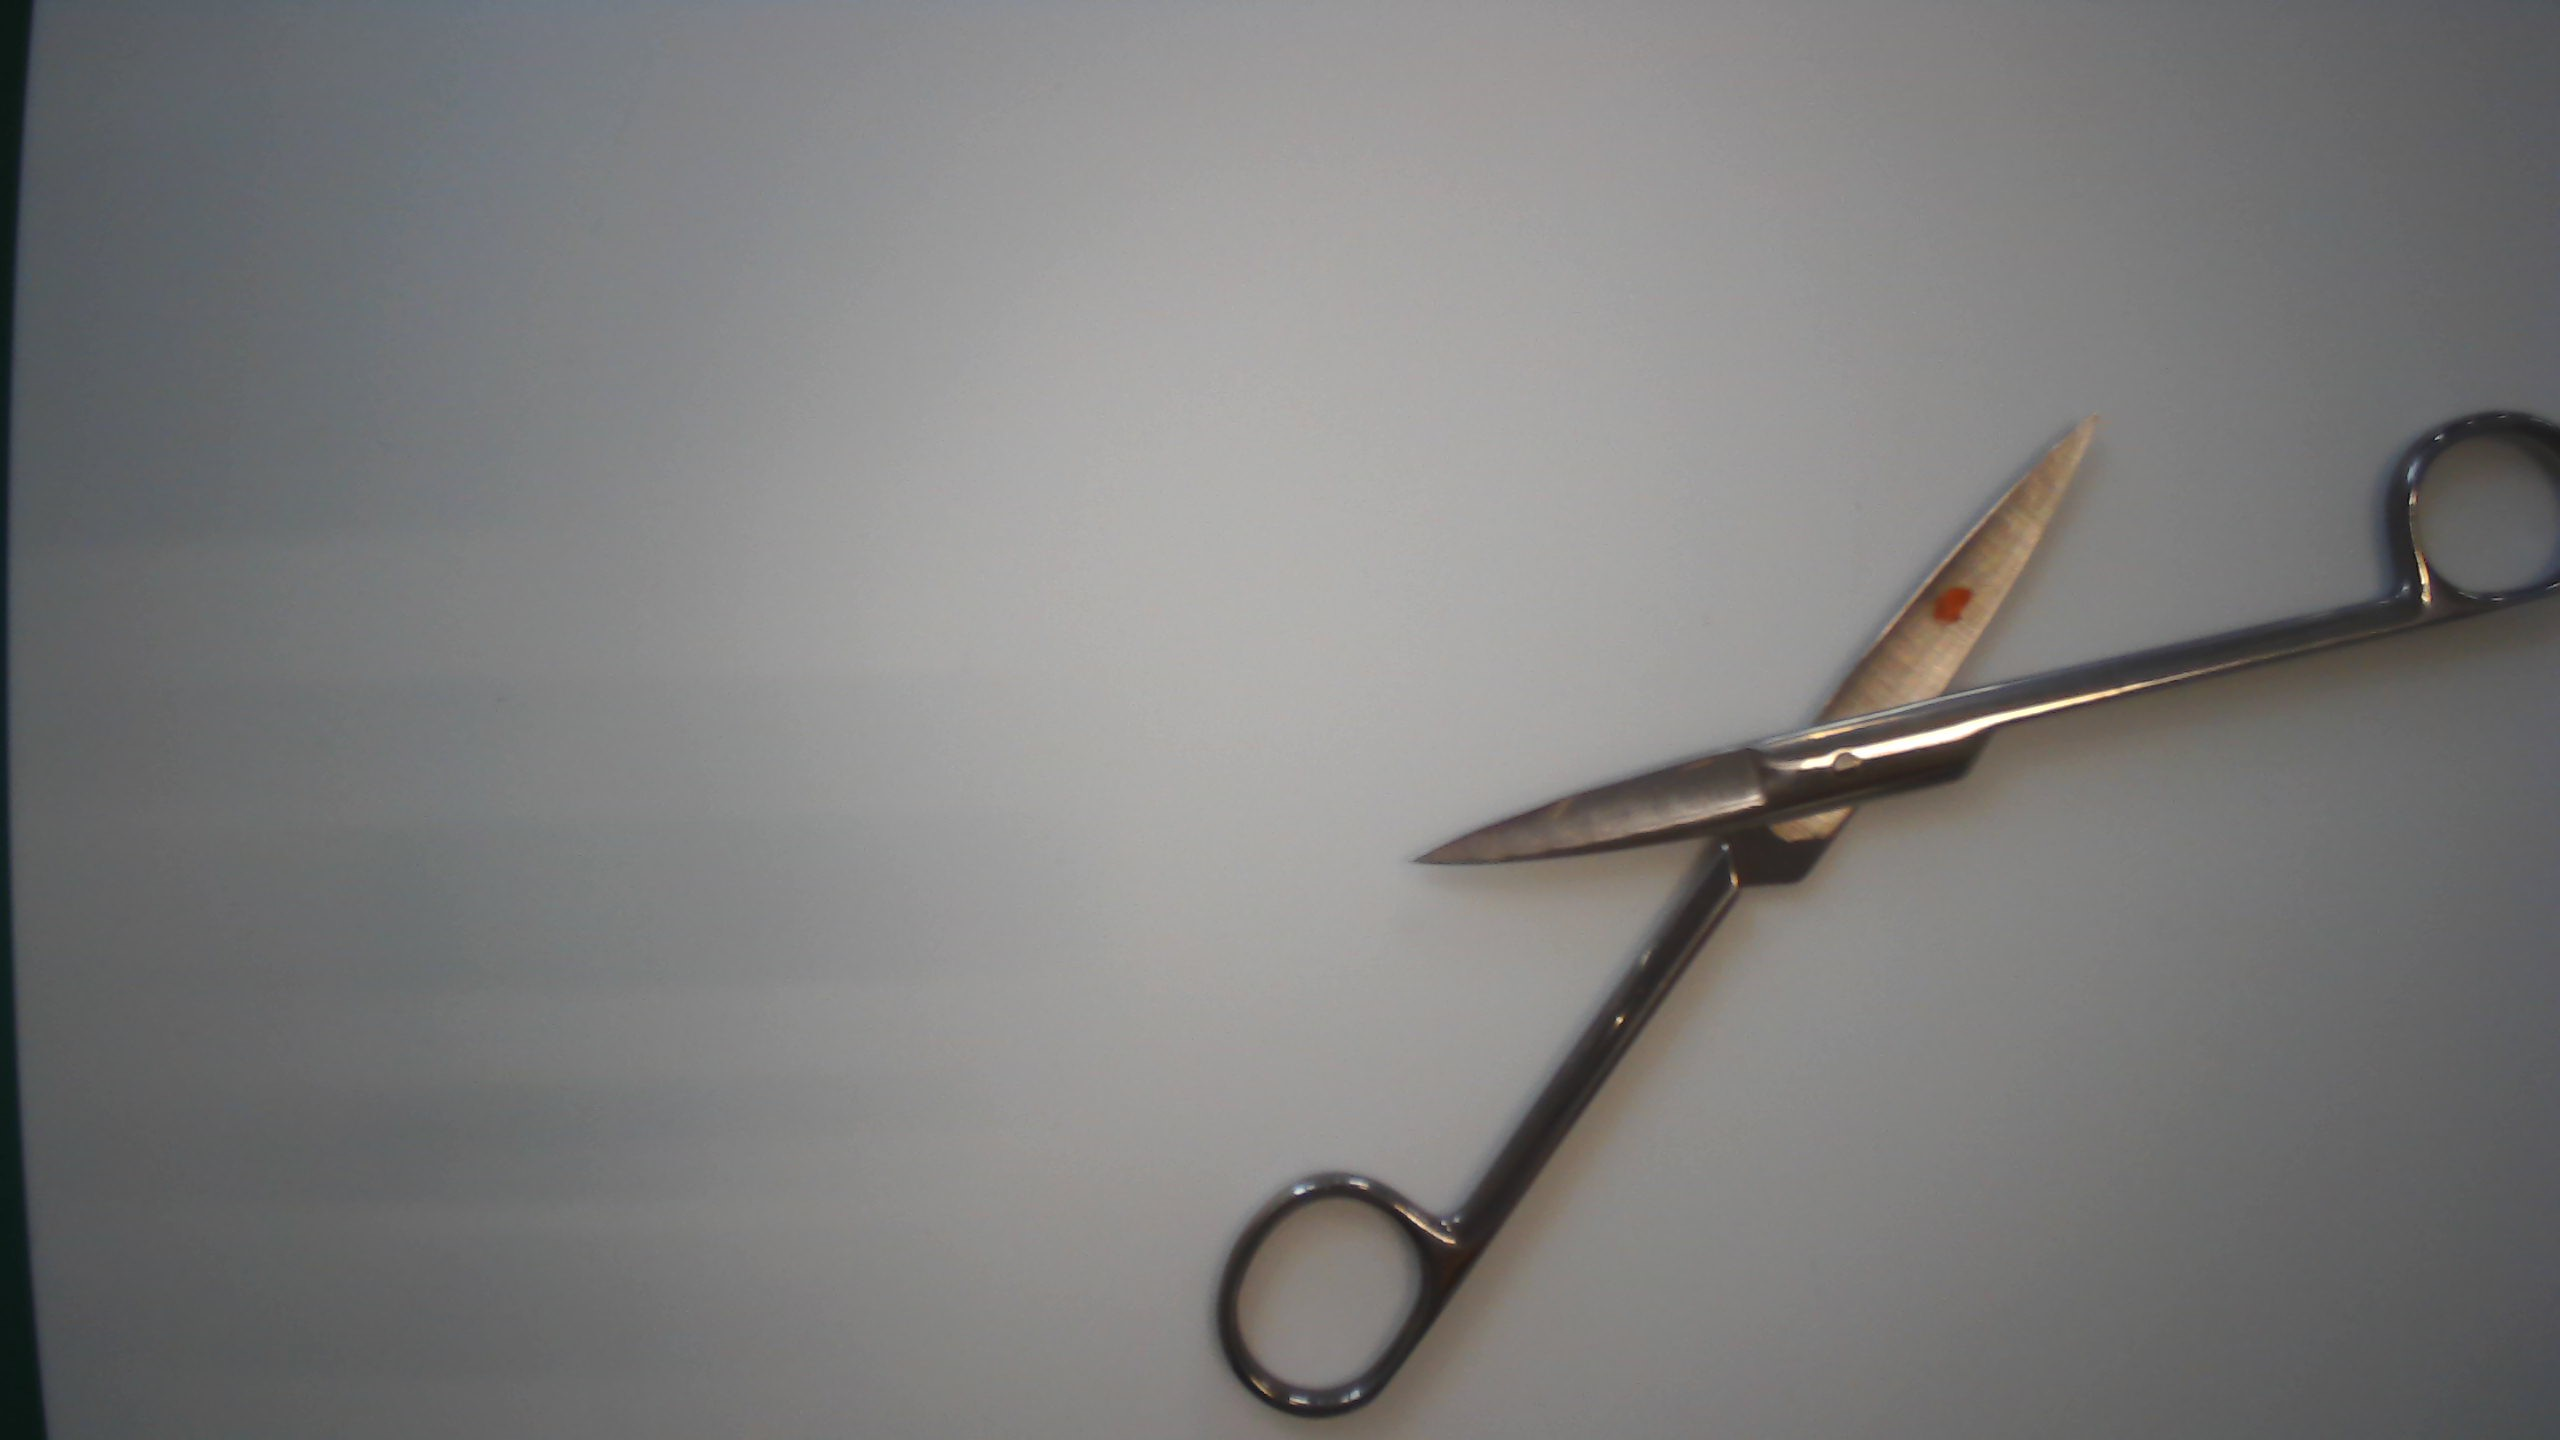Stain: (1918, 573, 1990, 626)
